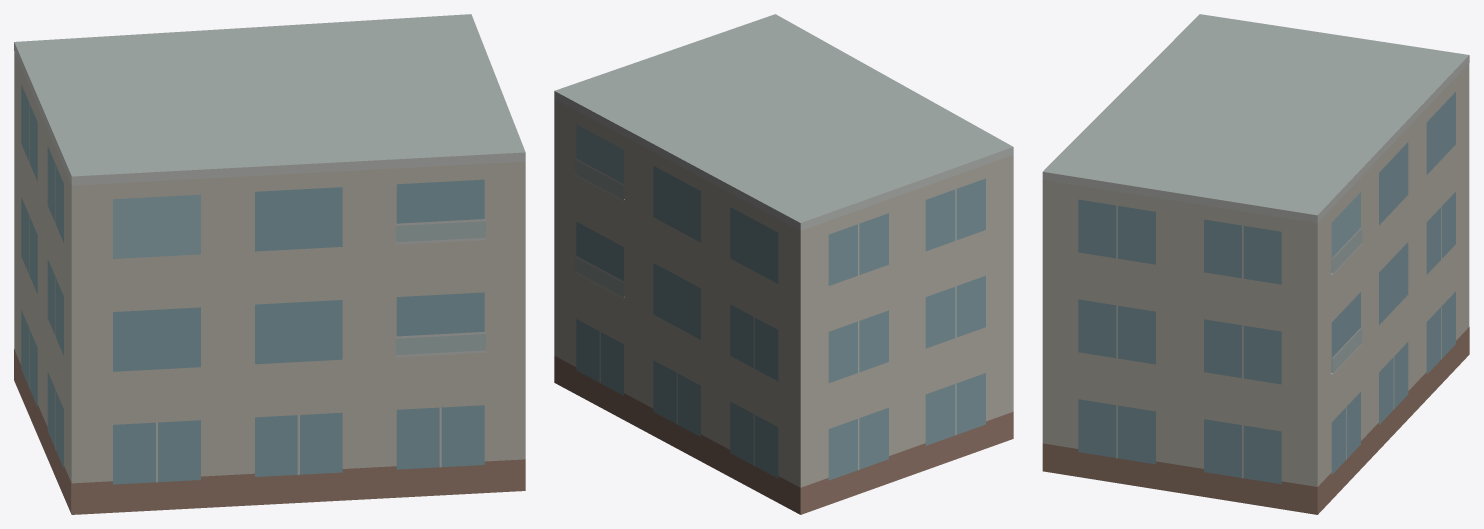
The model's file is survey-upis-32667978.glb.
3 views of the same model, side by side, from view 1: azimuth 30°, elevation 25°; view 2: azimuth 150°, elevation 25°; view 3: azimuth 270°, elevation 25° (orthographic). The views are drawn at different scales.
Parts seen in each view (by area): view 1: survey-upis-32667978.tmp; view 2: survey-upis-32667978.tmp; view 3: survey-upis-32667978.tmp.
Part boxes in pixels (x1=…): survey-upis-32667978.tmp: x1=14, y1=14, x2=525, y2=514; survey-upis-32667978.tmp: x1=554, y1=14, x2=1013, y2=514; survey-upis-32667978.tmp: x1=1042, y1=14, x2=1469, y2=514.
Size of the model in its own units: 13.2 by 9.15 by 11.83.
